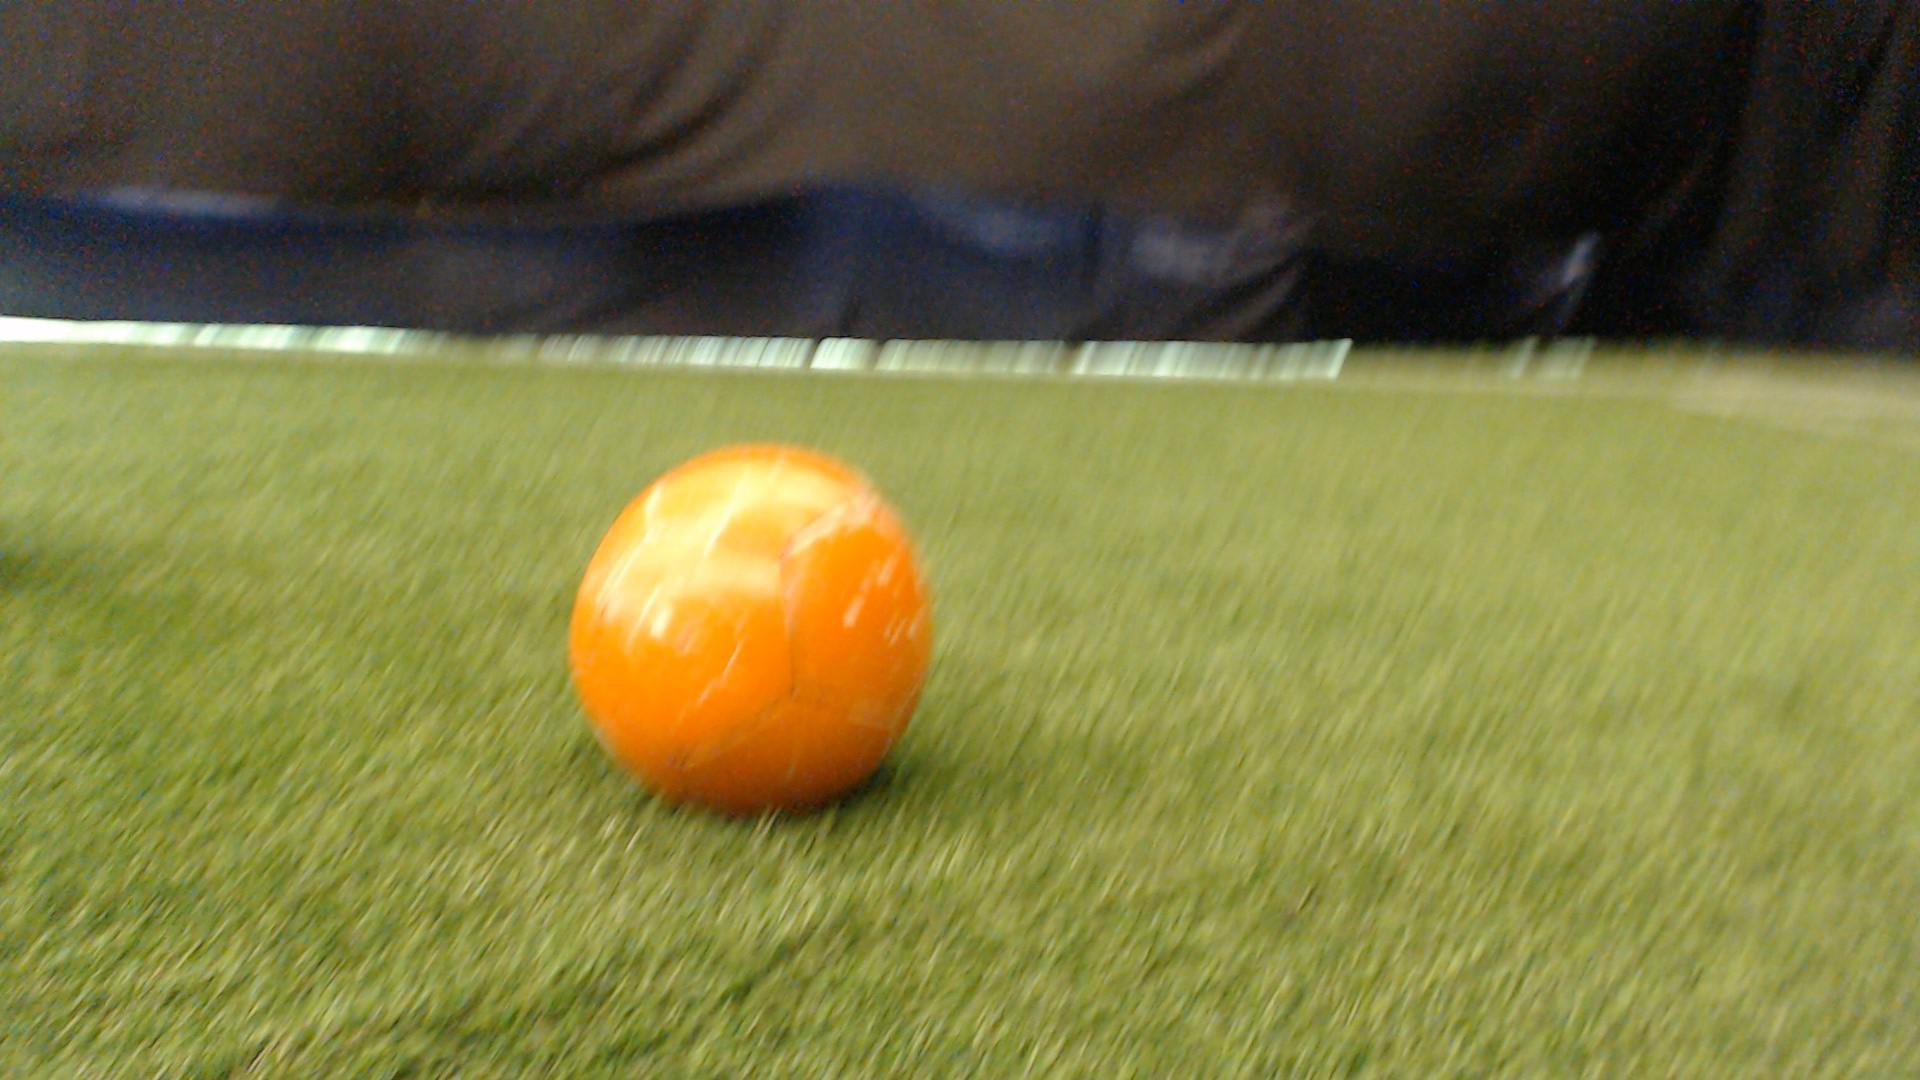bola: (558, 433, 960, 835)
